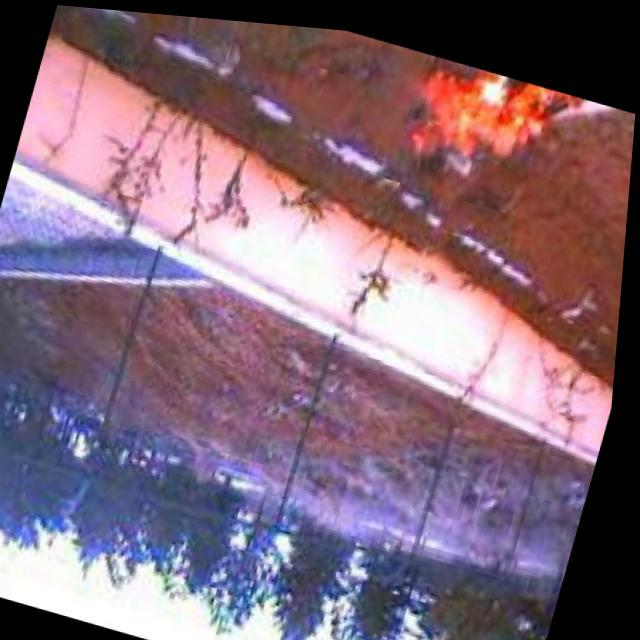fire: (404, 44, 590, 184)
